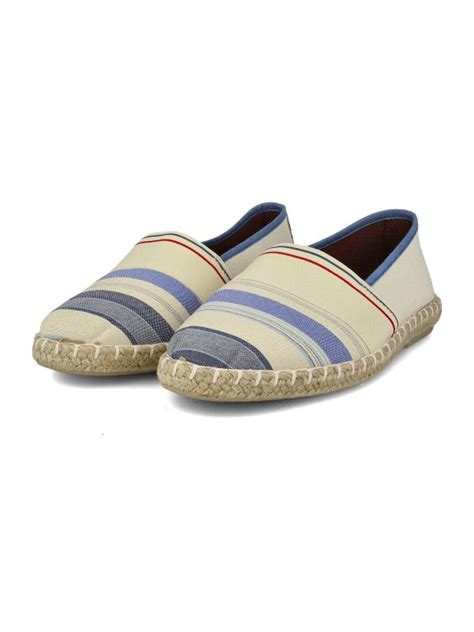nylon: (33, 200, 438, 371)
